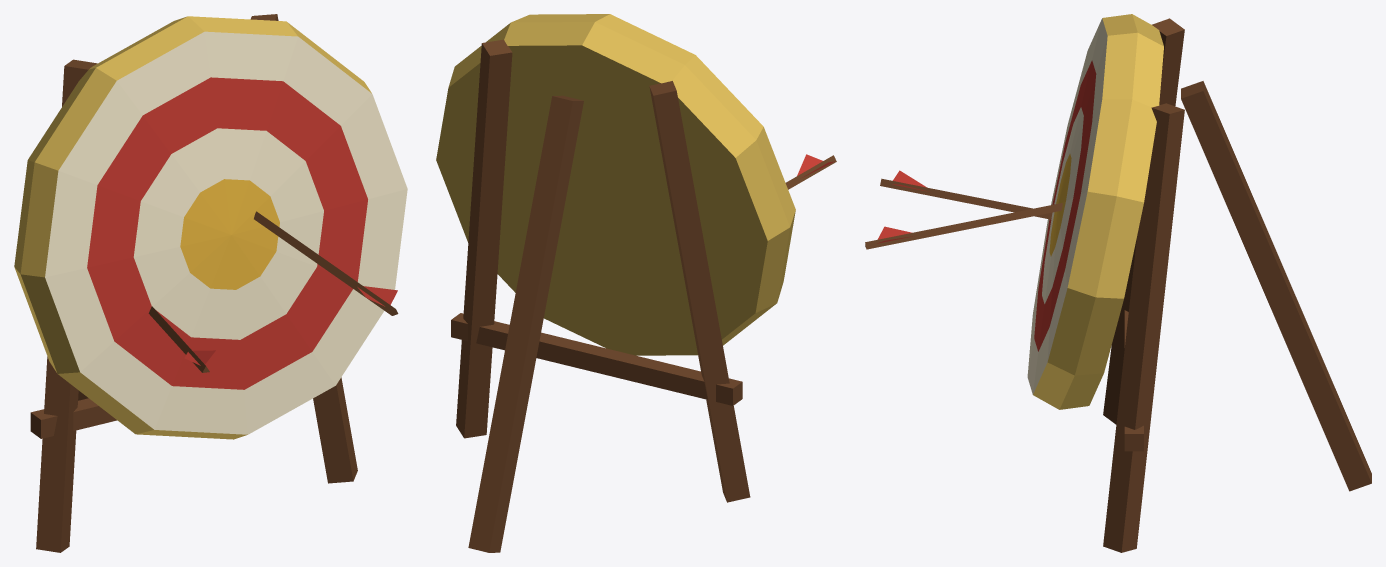
File: hay_target.glb
3 renders of one model, left to right at view 1: azimuth 30°, elevation 25°; view 2: azimuth 150°, elevation 25°; view 3: azimuth 270°, elevation 25°, orthographic. The views are drawn at different scales.
Visible parts, largest first — view 1: hay_target; view 2: hay_target; view 3: hay_target.
Part boxes in pixels (left/top/right/bottom): hay_target: left=14, top=14, right=407, bottom=552; hay_target: left=436, top=14, right=836, bottom=552; hay_target: left=865, top=14, right=1371, bottom=552.
Size of the model in its own units: 0.84 by 1.04 by 1.05.
